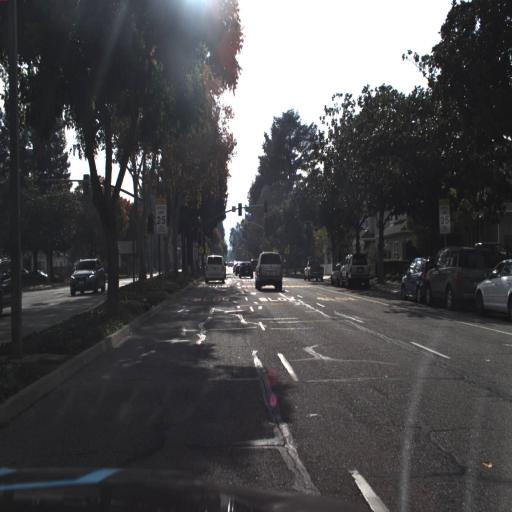car: (426, 247, 487, 312), (470, 254, 512, 327), (401, 253, 434, 309), (66, 255, 106, 294), (253, 250, 285, 293), (341, 251, 372, 291), (339, 251, 371, 288), (202, 251, 226, 286), (302, 254, 324, 283), (237, 260, 254, 281), (329, 258, 340, 287), (250, 255, 261, 270)
